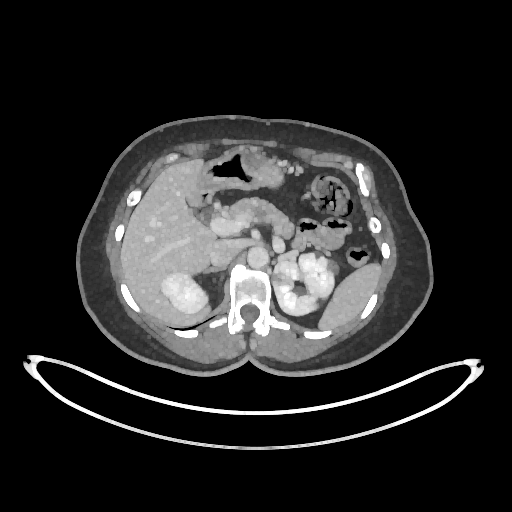Lesion: (270, 270, 294, 290)
